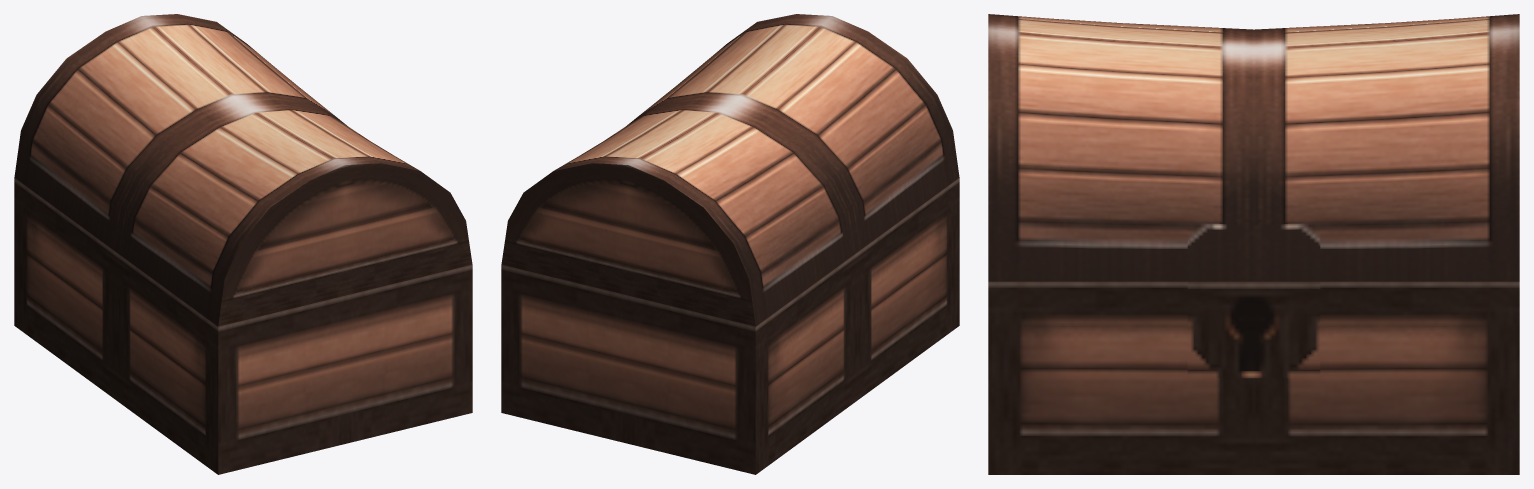
File: M17_treasure_box.fbx
The picture shows the model from 3 angles, left to right: view 1: azimuth 30°, elevation 25°; view 2: azimuth 150°, elevation 25°; view 3: azimuth 270°, elevation 25°; orthographic projection. The views are drawn at different scales.
Visible parts, largest first — view 1: lid, body; view 2: lid, body; view 3: lid, body.
Part boxes in pixels (<box>): lid: <box>14,14,472,326</box>; body: <box>14,177,472,474</box>; lid: <box>501,14,959,326</box>; body: <box>501,177,959,474</box>; lid: <box>988,14,1519,281</box>; body: <box>988,281,1519,474</box>.
Bounding box in the file's own units: 10.33 × 10.82 × 14.34.
